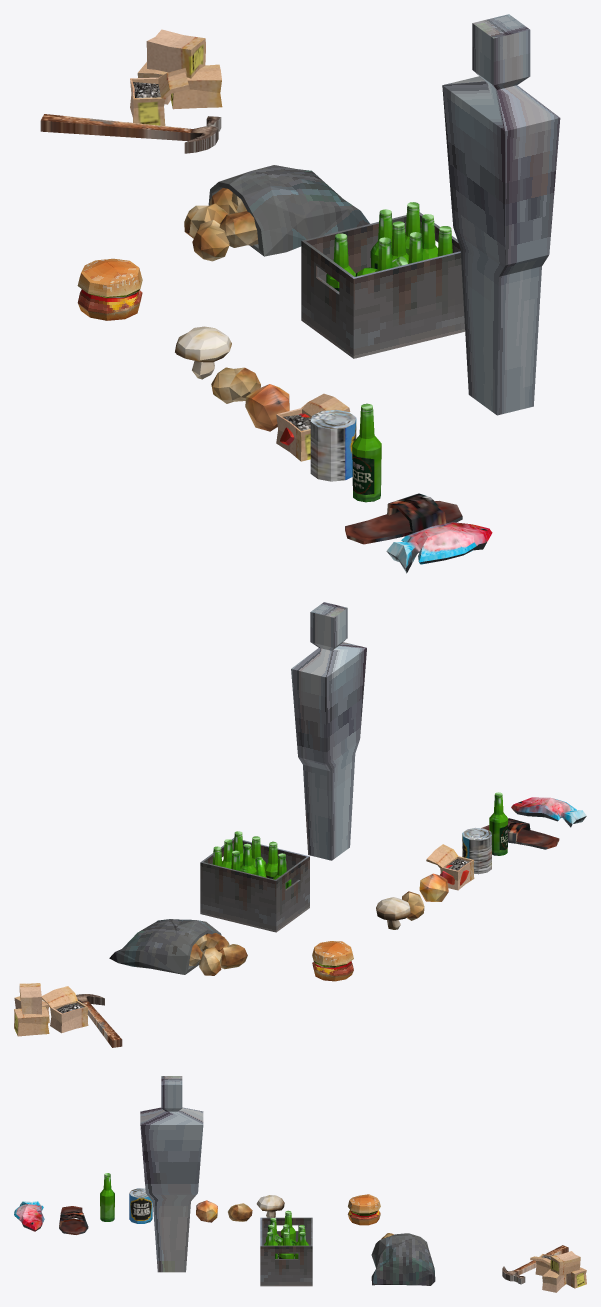
File: soup-nails.glb
3 views of the same model, one above another, from view 1: azimuth 30°, elevation 25°; view 2: azimuth 150°, elevation 25°; view 3: azimuth 270°, elevation 25° (orthographic). The views are drawn at different scales.
Parts seen in each view (by area): view 1: HumanSizeRef-noimp, Plane, Plane.001, soup-burger, Plane.002, soup-sandal, soup-fish, soup-beans, soup-beer, soup-nails.004, soup-nails.001, soup-nails (+7 smaller); view 2: HumanSizeRef-noimp, Plane, Plane.001, soup-nails.001, soup-burger, soup-fish, soup-beans, soup-nails, soup-sandal, soup-beer, Plane.002, soup-nails.002 (+3 smaller); view 3: HumanSizeRef-noimp, Plane.001, Plane, soup-burger, soup-beans, soup-sandal, soup-fish, soup-beer, soup-nails.004, Plane.002, soup-shroom, soup-nails.003 (+4 smaller).
Part boxes in pixels (x1,y1,x2,y2): HumanSizeRef-noimp: [442, 14, 560, 415]; Plane: [301, 212, 465, 358]; Plane.001: [208, 165, 369, 256]; soup-burger: [77, 258, 142, 320]; Plane.002: [40, 114, 221, 153]; soup-sandal: [345, 493, 462, 544]; soup-fish: [386, 522, 492, 573]; soup-beans: [310, 409, 356, 481]; soup-beer: [352, 403, 381, 502]; soup-nails.004: [146, 29, 205, 78]; soup-nails.001: [130, 68, 189, 125]; soup-nails: [276, 393, 350, 461]; HumanSizeRef-noimp: [291, 602, 366, 860]; Plane: [200, 838, 309, 932]; Plane.001: [109, 919, 221, 974]; soup-nails.001: [41, 986, 88, 1033]; soup-burger: [312, 941, 353, 981]; soup-fish: [511, 797, 586, 827]; soup-beans: [462, 828, 491, 874]; soup-nails: [426, 844, 474, 890]; soup-sandal: [481, 818, 559, 849]; soup-beer: [489, 792, 508, 855]; Plane.002: [76, 994, 122, 1047]; soup-nails.002: [14, 1006, 49, 1036]; HumanSizeRef-noimp: [140, 1076, 203, 1272]; Plane.001: [371, 1233, 435, 1285]; Plane: [260, 1217, 312, 1286]; soup-burger: [347, 1194, 380, 1225]; soup-beans: [129, 1188, 152, 1223]; soup-sandal: [59, 1206, 88, 1234]; soup-fish: [14, 1201, 44, 1231]; soup-beer: [100, 1173, 114, 1221]; soup-nails.004: [550, 1251, 580, 1275]; Plane.002: [502, 1245, 568, 1284]; soup-shroom: [256, 1195, 284, 1217]; soup-nails.003: [542, 1269, 566, 1292].
Bounding box in the file's own units: 1.79 × 1.84 × 4.99.
Materials: 4 (4 with a texture image).
